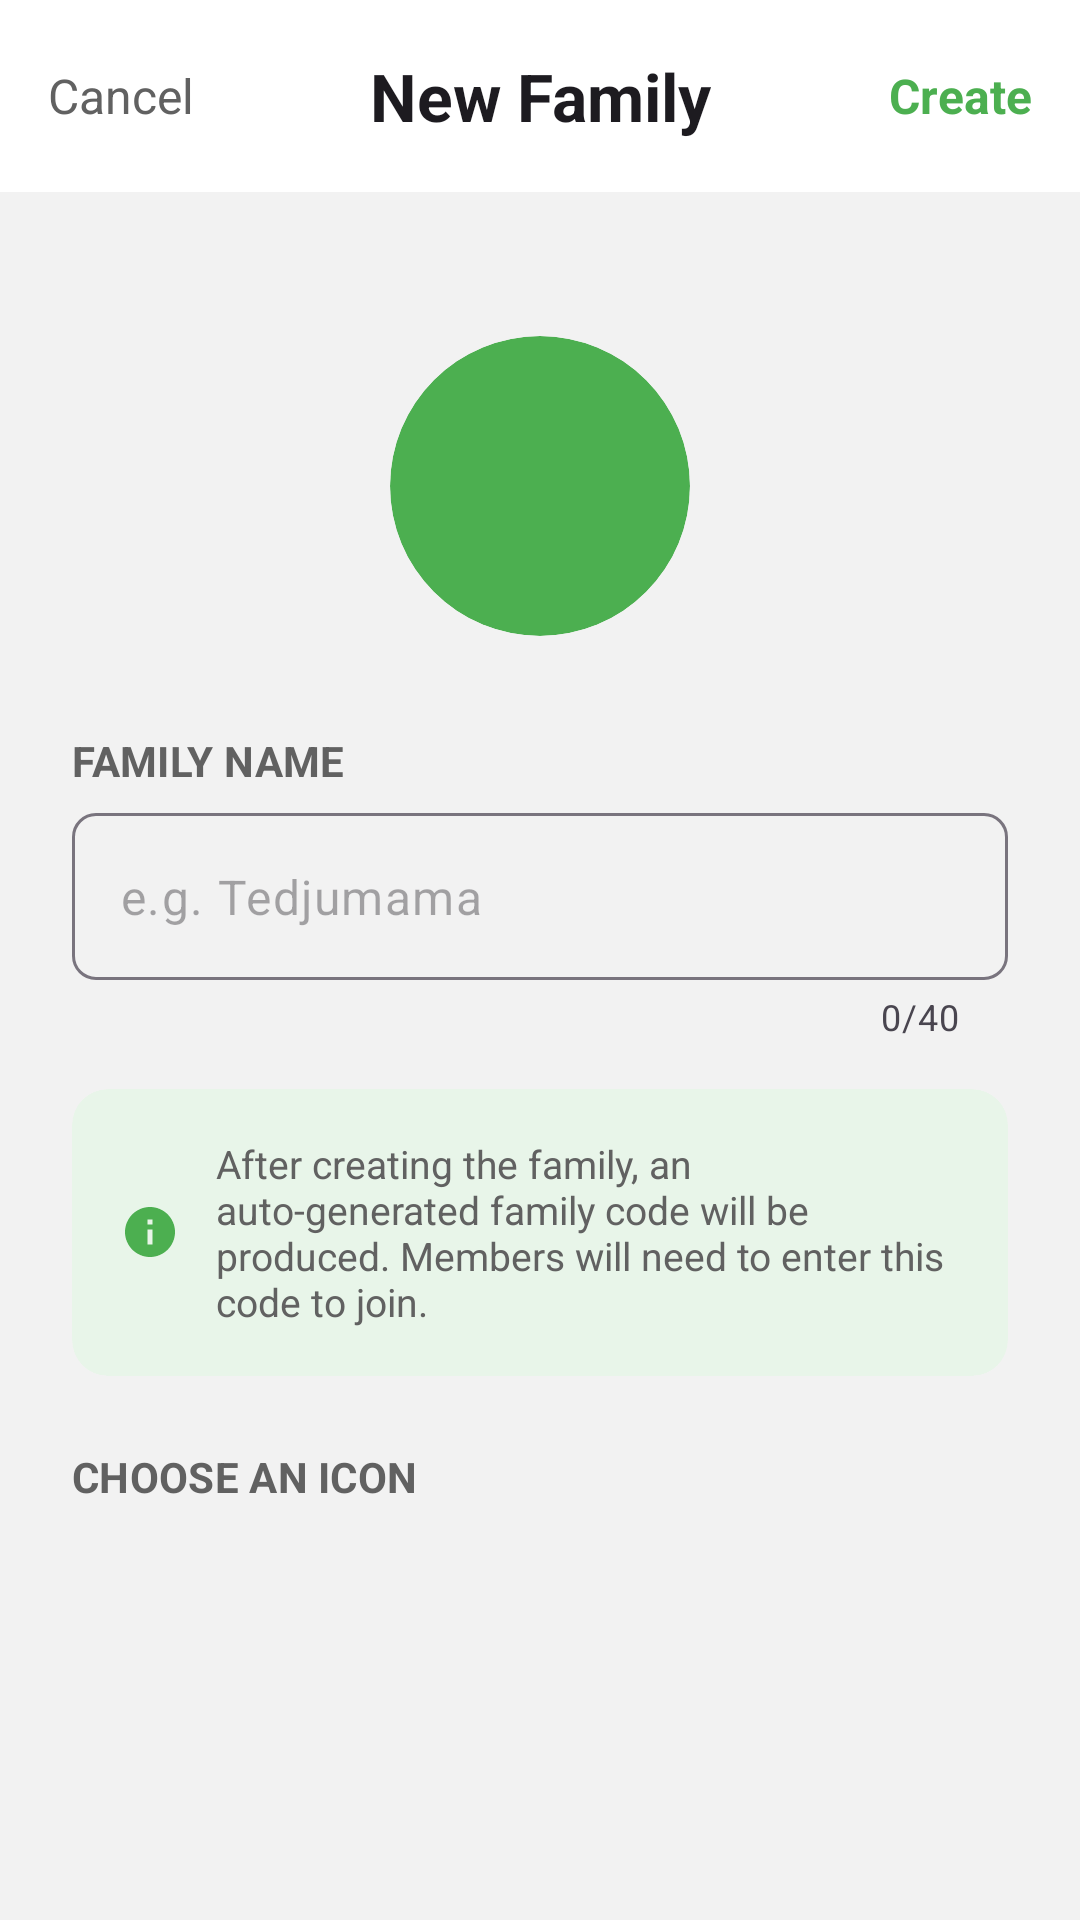

Icons on this 1080w x 1920h Android screen, each with the point to tap as point (x, y):
info: point (150, 1232)
